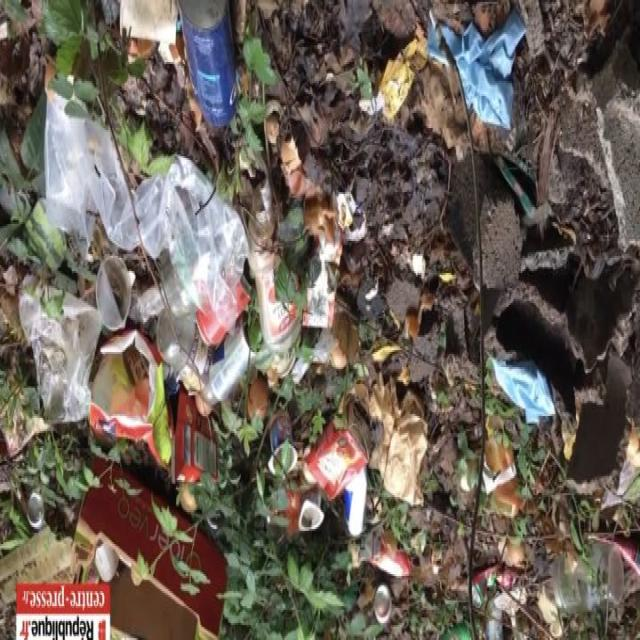garbage: (0, 0, 622, 632)
